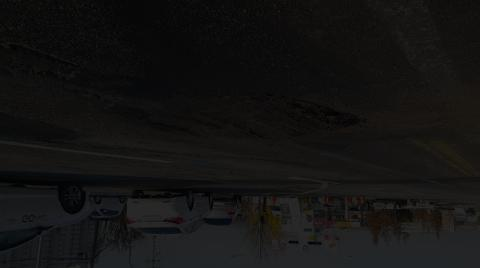pothole: (129, 84, 372, 158)
